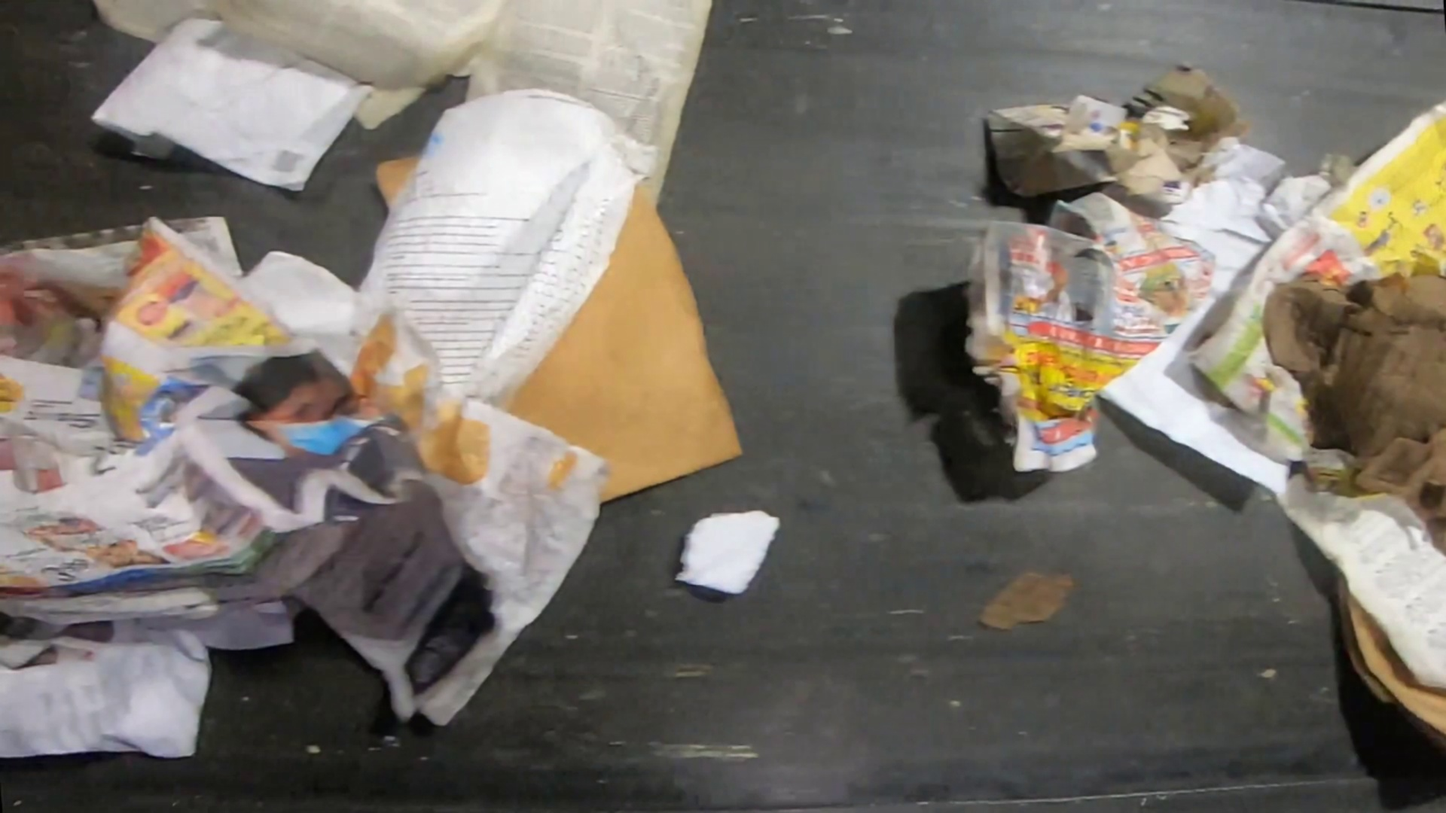cardboard: (508, 175, 749, 506), (1259, 272, 1446, 555), (1337, 569, 1443, 738), (371, 155, 420, 214)
